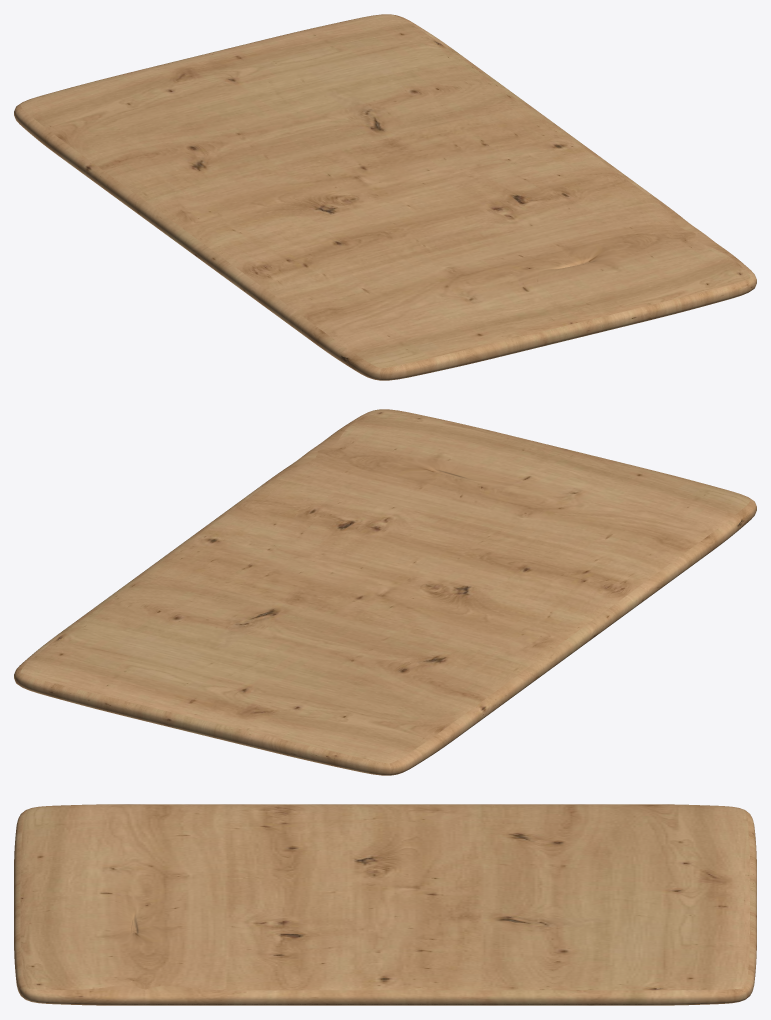
Rendered from Table_surface.fbx.
3 views of the same model, one above another, from view 1: azimuth 30°, elevation 25°; view 2: azimuth 150°, elevation 25°; view 3: azimuth 270°, elevation 25° (orthographic).
Parts seen in each view (by area): view 1: Cube; view 2: Cube; view 3: Cube.
Boxes of the visible parts, x1=… form: Cube: x1=14, y1=14, x2=756, y2=380; Cube: x1=14, y1=409, x2=756, y2=775; Cube: x1=14, y1=804, x2=756, y2=1005.
Size of the model in its own units: 3618 by 200 by 5889.
